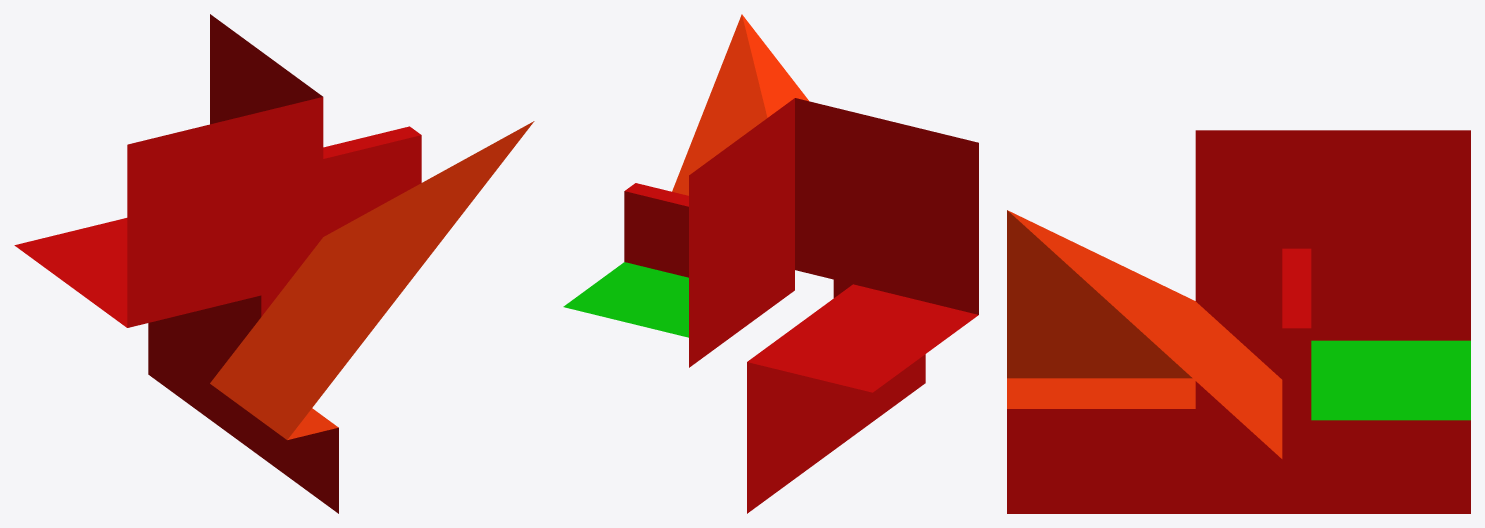
The picture shows the model from 3 angles, left to right: view 1: azimuth 30°, elevation 25°; view 2: azimuth 150°, elevation 25°; view 3: azimuth 270°, elevation 25°; orthographic projection. The views are drawn at different scales.
Visible parts, largest first — view 1: None_W_S_E_E_E_E_A_E_None; view 2: None_W_S_E_E_E_E_A_E_None; view 3: None_W_S_E_E_E_E_A_E_None.
Boxes of the visible parts, box(x1,y1,x2,y2) form: None_W_S_E_E_E_E_A_E_None: box(14, 14, 534, 513); None_W_S_E_E_E_E_A_E_None: box(563, 14, 978, 513); None_W_S_E_E_E_E_A_E_None: box(1007, 130, 1470, 513).
Bounding box in the file's own units: 100 × 100 × 100.
